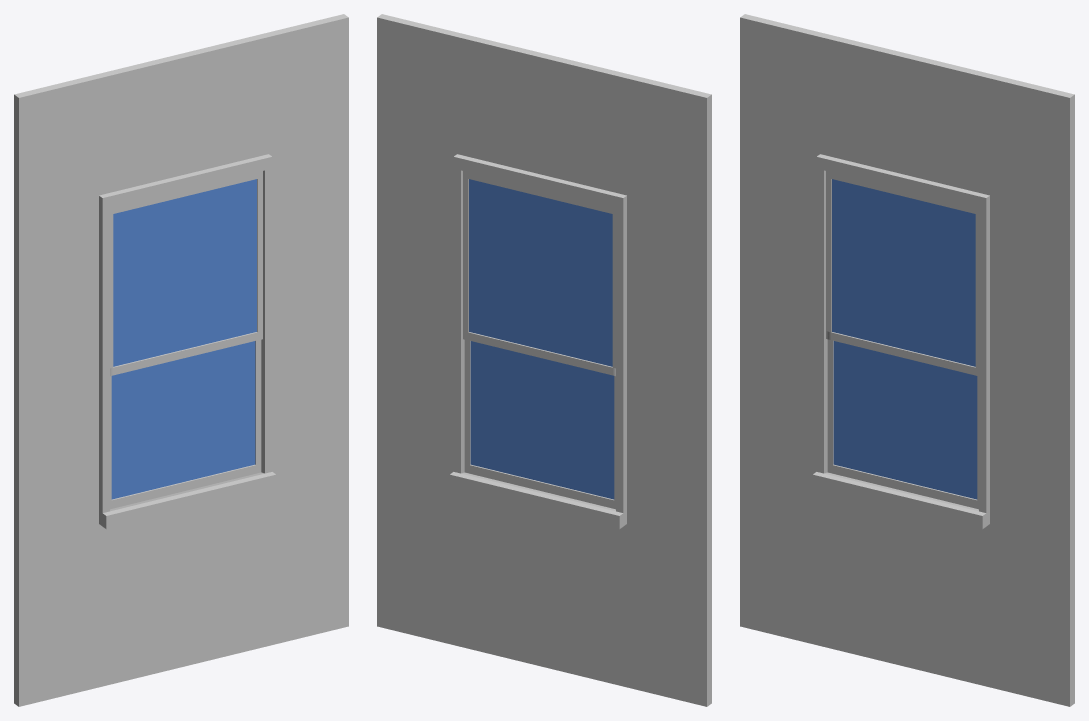
File: WallWindowTall.fbx
The picture shows the model from 3 angles, left to right: view 1: azimuth 30°, elevation 25°; view 2: azimuth 150°, elevation 25°; view 3: azimuth 330°, elevation 25°; orthographic projection.
Visible parts, largest first — view 1: Wall.002; view 2: Wall.002; view 3: Wall.002.
Part boxes in pixels (left/top/right/bottom): Wall.002: left=14, top=14, right=348, bottom=706; Wall.002: left=377, top=14, right=711, bottom=706; Wall.002: left=740, top=14, right=1074, bottom=706.
Bounding box in the file's own units: 4 × 7.06 × 0.4138.
